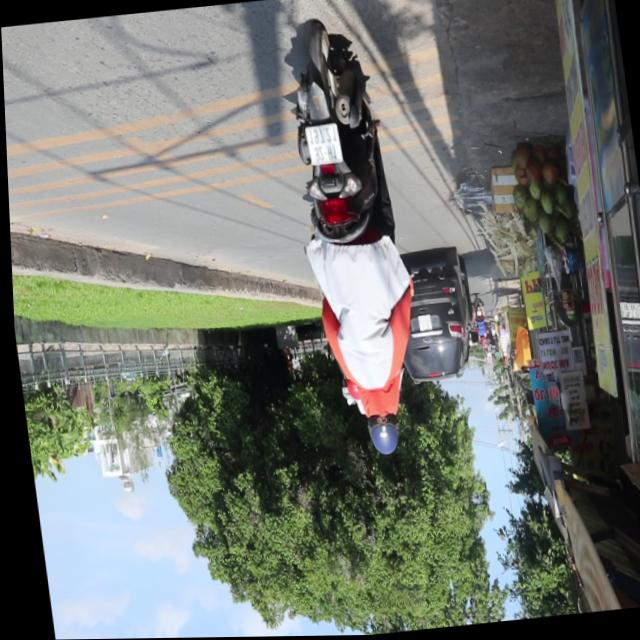helmet: (356, 390, 399, 459)
licenseplate: (272, 19, 433, 472)
nohelmet: (303, 124, 340, 168)
